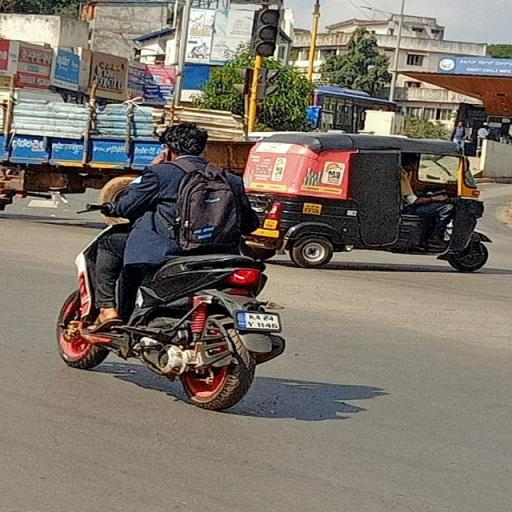bike: (52, 120, 299, 410)
numberplate: (232, 310, 282, 330)
using mobile: (157, 147, 173, 166)
withouthelmet: (162, 124, 209, 158)
